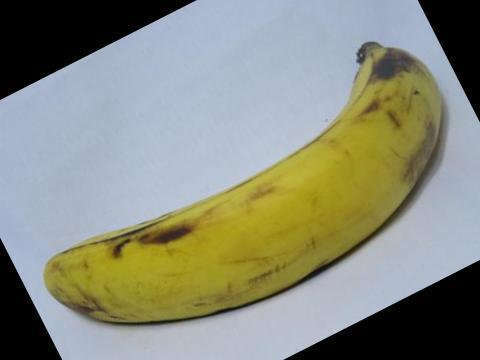ripe: (43, 26, 464, 334)
